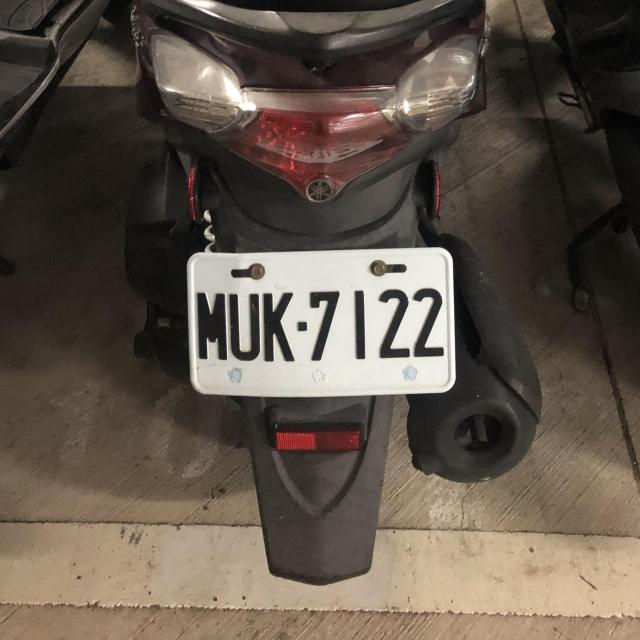W: (183, 245, 456, 400)
